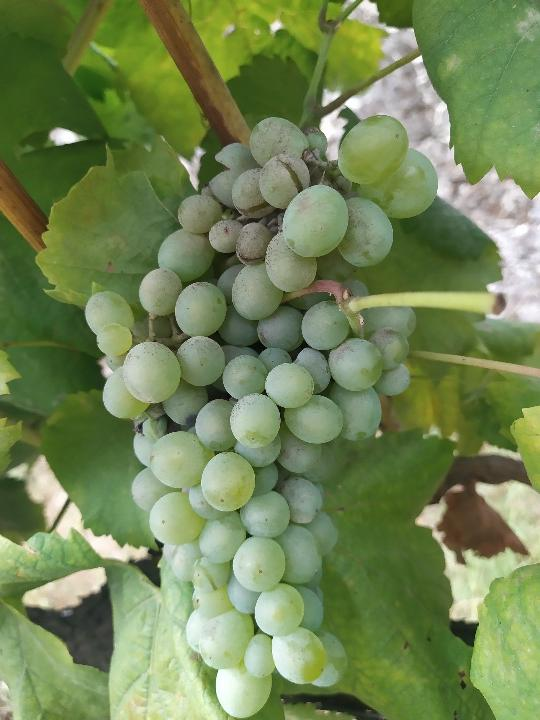grape: (81, 112, 442, 718)
